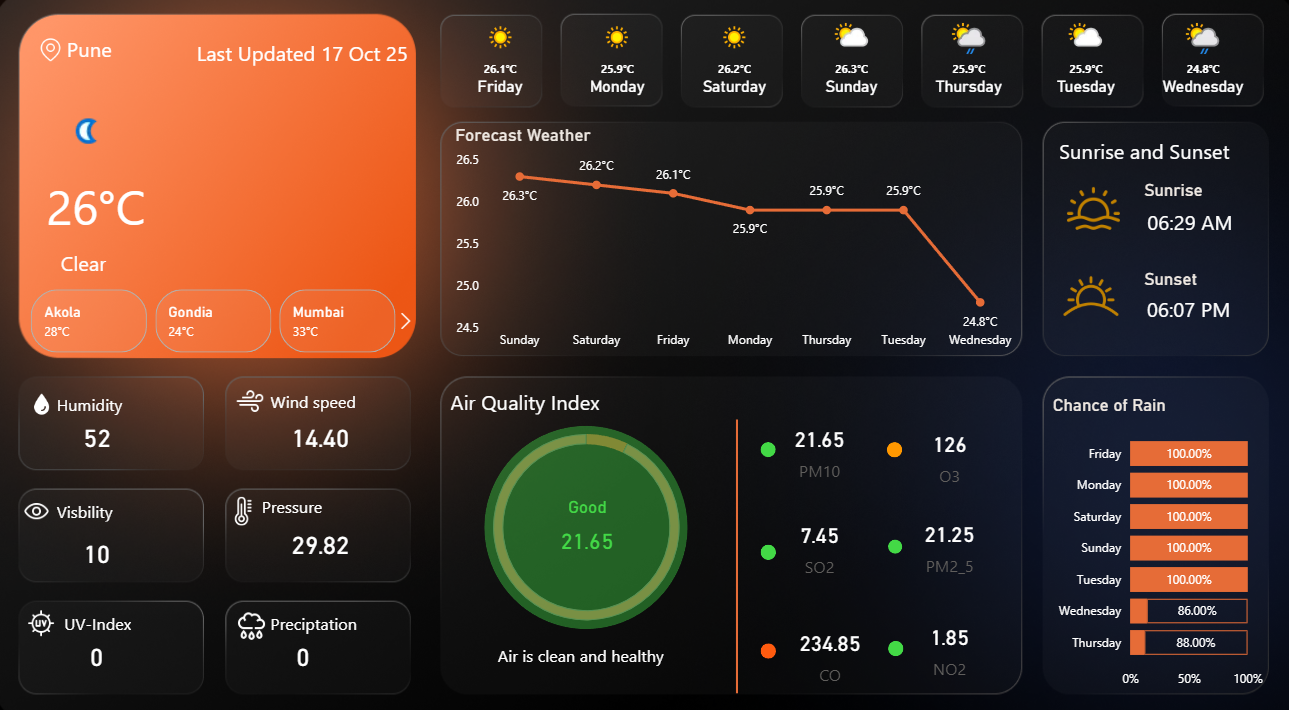

The dashboard page shown, as its layout file describes it:
{"tool":"powerbi","page":{"name":"Page 1","canvas":[1280,720],"ordinal":0},"visuals":[{"type":"donutChart","fields":{"Y":["Sum(current.current.air_quality.pm10)","_Measures.LEFT_VALUE_PM10"]},"box":[420.9,405.7,323.5,238.9],"z":0},{"type":"advancedSlicerVisual","fields":{"Values":["Location.location.name"]},"box":[12.5,287.5,408.8,72.5],"z":1000},{"type":"shape","box":[12.5,173.8,177.5,70],"z":2000},{"type":"shape","box":[0,244.2,177.9,42.9],"z":3000},{"type":"shape","box":[177.9,38,229.4,42.9],"z":4000},{"type":"shape","box":[72.4,34.4,105.5,42.9],"z":5000},{"type":"image","box":[40.5,31.9,31.9,49.1],"z":6000},{"type":"cardVisual","fields":{"Data":["Min(current.current.condition.icon)"]},"box":[26.2,80,125,112.5],"z":7000},{"type":"image","box":[26.2,388.8,43.8,31.2],"z":8000},{"type":"image","box":[13.8,491.2,58.8,37.5],"z":9000},{"type":"image","box":[230,382.5,46.2,37.5],"z":10000},{"type":"image","box":[217.5,491.2,57.5,37.5],"z":11000},{"type":"image","box":[21.4,601.4,52.9,37.1],"z":12000},{"type":"image","box":[227.5,601.2,53.8,42.5],"z":13000},{"type":"shape","box":[62.5,380,135,48.8],"z":14000},{"type":"shape","box":[272.5,376.2,135,48.8],"z":15000},{"type":"shape","box":[62.5,485,135,48.8],"z":16000},{"type":"shape","box":[263.8,480,135,48.8],"z":17000},{"type":"shape","box":[70,595,135,48.6],"z":18000},{"type":"shape","box":[272.9,595,135,48.6],"z":19000},{"type":"card","fields":{"Values":["Sum(current.current.humidity)"]},"box":[27.5,405,150,65],"z":20000},{"type":"card","fields":{"Values":["Sum(current.current.wind_kph)"]},"box":[246.2,405,150,65],"z":21000},{"type":"card","fields":{"Values":["Sum(current.current.vis_km)"]},"box":[27.5,518.8,150,65],"z":22000},{"type":"card","fields":{"Values":["Sum(current.current.pressure_in)"]},"box":[246.2,510,150,65],"z":23000},{"type":"card","fields":{"Values":["Sum(current.current.uv)"]},"box":[27.5,620,150,65],"z":24000},{"type":"card","fields":{"Values":["Sum(current.current.precip_in)"]},"box":[230,620,150,65],"z":25000},{"type":"advancedSlicerVisual","fields":{"Values":["Forcast_day.Day_Name"]},"box":[439.3,18.4,812.3,101.8],"z":26000},{"type":"lineChart","title":"Forecast Weather","fields":{"Y":["Sum(Forcast_day.forecast.forecastday.day.avgtemp_c)"],"Category":["Forcast_day.Day_Name"]},"box":[448.9,130.1,562.3,229.5],"z":27000},{"type":"shape","box":[1046.2,136.2,195,38.8],"z":28000},{"type":"shape","box":[1113.8,204.6,121.8,40.2],"z":29000},{"type":"shape","box":[1112.6,281.6,121.8,57.5],"z":30000},{"type":"image","box":[1025.3,257.5,104.6,81.6],"z":31000},{"type":"image","box":[1044.8,181.6,69,62.1],"z":32000},{"type":"shape","title":"Sunrise","box":[1129.9,183.9,121.8,28.7],"z":33000},{"type":"shape","title":"Sunset","box":[1129.9,271.3,121.8,28.7],"z":34000},{"type":"hundredPercentStackedBarChart","title":"Chance of Rain","fields":{"Y":["current.Left_value_rain","Sum(Forcast_day.forecast.forecastday.day.daily_chance_of_rain)"],"Category":["Forcast_day.Day_Name"]},"box":[1035.6,395.4,216.1,297.7],"z":35000},{"type":"shape","box":[448.7,382.9,194.6,37.9],"z":36000},{"type":"card","fields":{"Values":["Sum(current.current.air_quality.pm10)"]},"box":[766.9,416,89.6,68.7],"z":37000},{"type":"card","fields":{"Values":["Sum(current.current.air_quality.o3)"]},"box":[894.5,420.9,89.6,68.7],"z":38000},{"type":"card","fields":{"Values":["Sum(current.current.air_quality.so2)"]},"box":[766.9,510.4,89.6,68.7],"z":39000},{"type":"card","fields":{"Values":["Sum(current.current.air_quality.co)"]},"box":[776.6,615.9,90.5,68.9],"z":40000},{"type":"card","fields":{"Values":["Sum(current.current.air_quality.pm2_5)"]},"box":[894.5,509.2,89.6,68.7],"z":41000},{"type":"card","fields":{"Values":["Sum(current.current.air_quality.no2)"]},"box":[894.5,609.8,89.6,68.7],"z":42000},{"type":"shape","box":[753.6,441.2,15,15],"z":43000},{"type":"shape","box":[753.6,638.9,15.3,15.3],"z":44000},{"type":"shape","box":[753.6,541.9,15.3,15.3],"z":45000},{"type":"shape","box":[877.3,441.2,15.3,15.3],"z":46000},{"type":"shape","box":[878.6,636.3,15.3,15.3],"z":47000},{"type":"shape","box":[878.6,536.8,14,14],"z":48000},{"type":"shape","box":[685,420,91.2,268.8],"z":49000},{"type":"card","fields":{"Values":["Sum(current.current.air_quality.pm10)"]},"box":[538.4,495.4,89.7,68.2],"z":50000},{"type":"shape","box":[482.8,425.9,199.7,199.7],"z":51000},{"type":"shape","box":[439.8,631.9,275.5,37.9],"z":52000}]}

Visuals, with their boxes in screenshot pixels (x1, y1, x2, y2), scaled from the page's 1280x720 canvas onto the 1289x710 screenshot:
donutChart - Sum(current.current.air_quality.pm10) x _Measures.LEFT_VALUE_PM10: 424:400:750:636
advancedSlicerVisual - Location.location.name: 13:284:424:355
shape: 13:171:191:240
shape: 0:241:179:283
shape: 179:37:410:80
shape: 73:34:179:76
image: 41:31:73:80
cardVisual - Min(current.current.condition.icon): 26:79:152:190
image: 26:383:70:414
image: 14:484:73:521
image: 232:377:278:414
image: 219:484:277:521
image: 22:593:75:630
image: 229:593:283:635
shape: 63:375:199:423
shape: 274:371:410:419
shape: 63:478:199:526
shape: 266:473:402:521
shape: 70:587:206:635
shape: 275:587:411:635
card - Sum(current.current.humidity): 28:399:179:463
card - Sum(current.current.wind_kph): 248:399:399:463
card - Sum(current.current.vis_km): 28:512:179:576
card - Sum(current.current.pressure_in): 248:503:399:567
card - Sum(current.current.uv): 28:611:179:675
card - Sum(current.current.precip_in): 232:611:383:675
advancedSlicerVisual - Forcast_day.Day_Name: 442:18:1260:119
"Forecast Weather" lineChart: 452:128:1018:355
shape: 1054:134:1250:173
shape: 1122:202:1244:241
shape: 1120:278:1243:334
image: 1033:254:1138:334
image: 1052:179:1122:240
"Sunrise" shape: 1138:181:1261:210
"Sunset" shape: 1138:268:1261:296
"Chance of Rain" hundredPercentStackedBarChart: 1043:390:1261:683
shape: 452:378:648:415
card - Sum(current.current.air_quality.pm10): 772:410:863:478
card - Sum(current.current.air_quality.o3): 901:415:991:483
card - Sum(current.current.air_quality.so2): 772:503:863:571
card - Sum(current.current.air_quality.co): 782:607:873:675
card - Sum(current.current.air_quality.pm2_5): 901:502:991:570
card - Sum(current.current.air_quality.no2): 901:601:991:669
shape: 759:435:774:450
shape: 759:630:774:645
shape: 759:534:774:549
shape: 883:435:899:450
shape: 885:627:900:643
shape: 885:529:899:543
shape: 690:414:782:679
card - Sum(current.current.air_quality.pm10): 542:489:633:556
shape: 486:420:687:617
shape: 443:623:720:660
